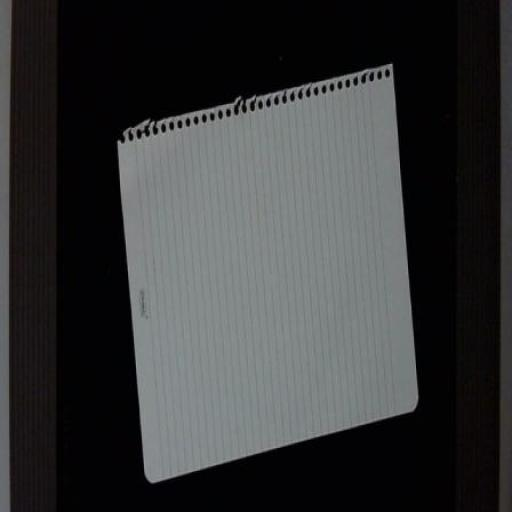paper: (96, 68, 478, 468)
